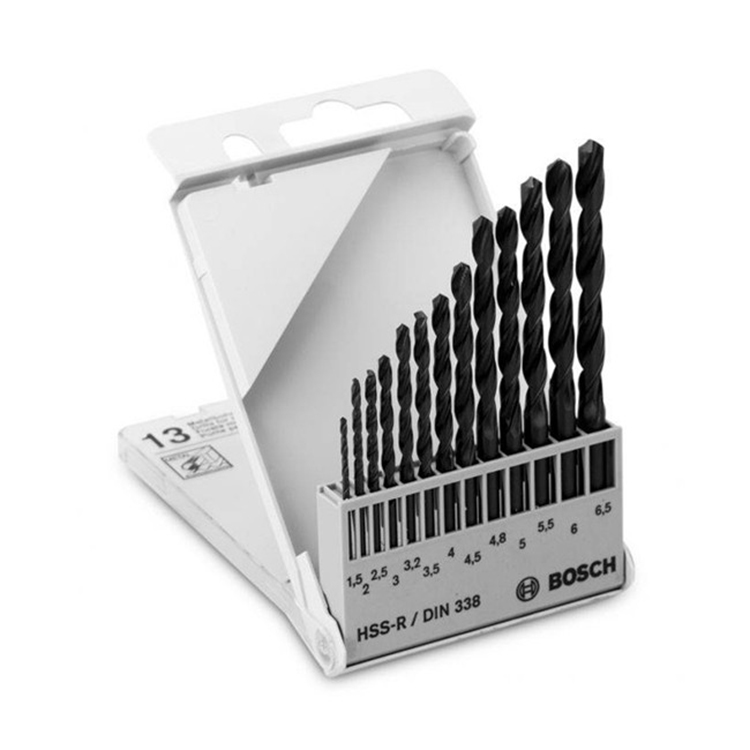Bosch: (544, 553, 624, 597)
